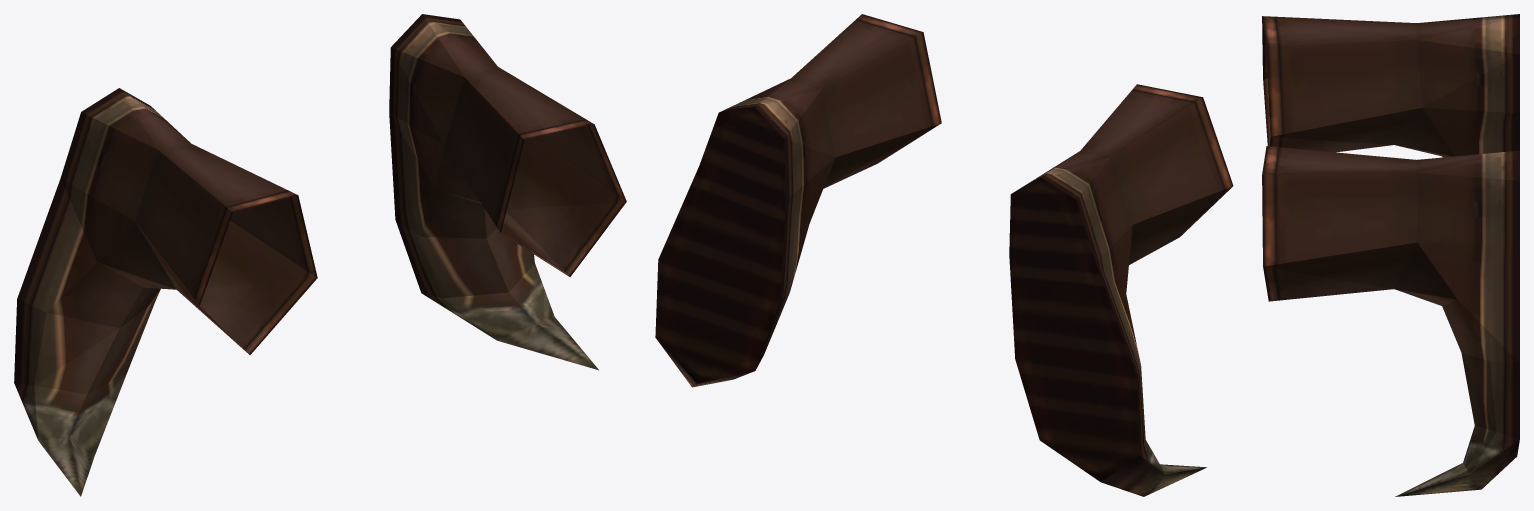
The model's file is priest_shoe_male_49030.obj.
3 views of the same model, side by side, from view 1: azimuth 30°, elevation 25°; view 2: azimuth 150°, elevation 25°; view 3: azimuth 270°, elevation 25° (orthographic). The views are drawn at different scales.
Parts seen in each view (by area): view 1: priest_shoe_male_49030; view 2: priest_shoe_male_49030; view 3: priest_shoe_male_49030.
Part boxes in pixels (x1,y1,x2,y2): priest_shoe_male_49030: (14, 14, 626, 496); priest_shoe_male_49030: (655, 14, 1233, 496); priest_shoe_male_49030: (1262, 14, 1519, 496).
Size of the model in its own units: 27.91 by 17.25 by 13.35.
1 material, 1 textured.
